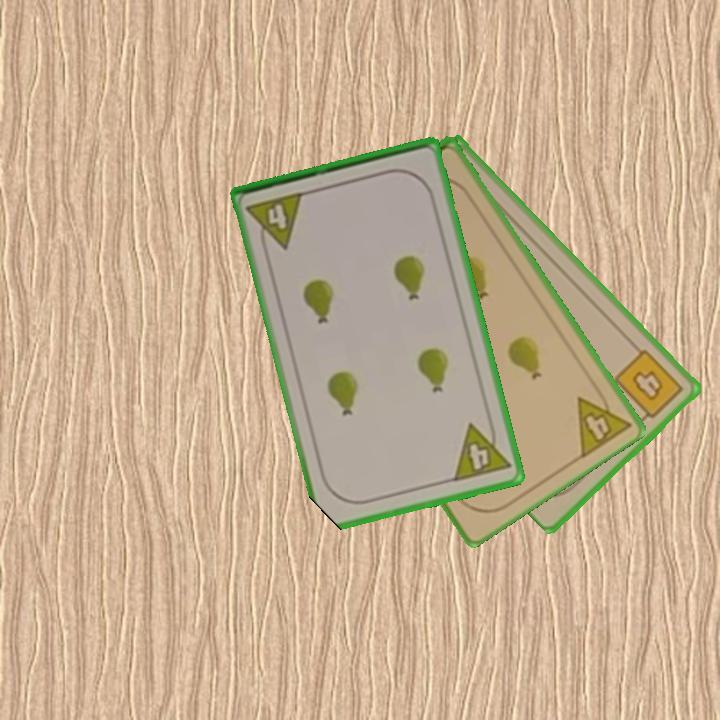4b: (610, 345, 687, 427)
4p: (573, 379, 634, 461), (449, 415, 514, 485), (243, 188, 307, 256)
